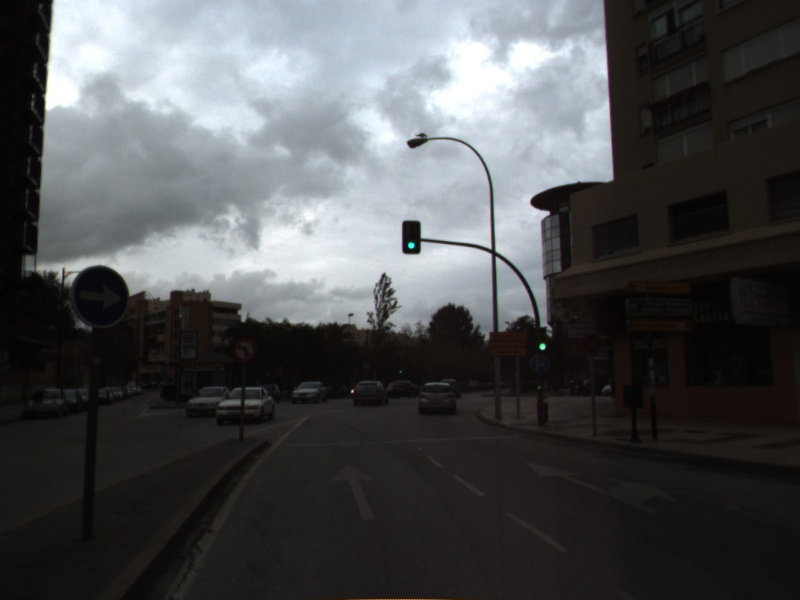STRAIGHT: (329, 462, 380, 523)
STRAIGHT_RIGHT: (522, 459, 682, 515)
